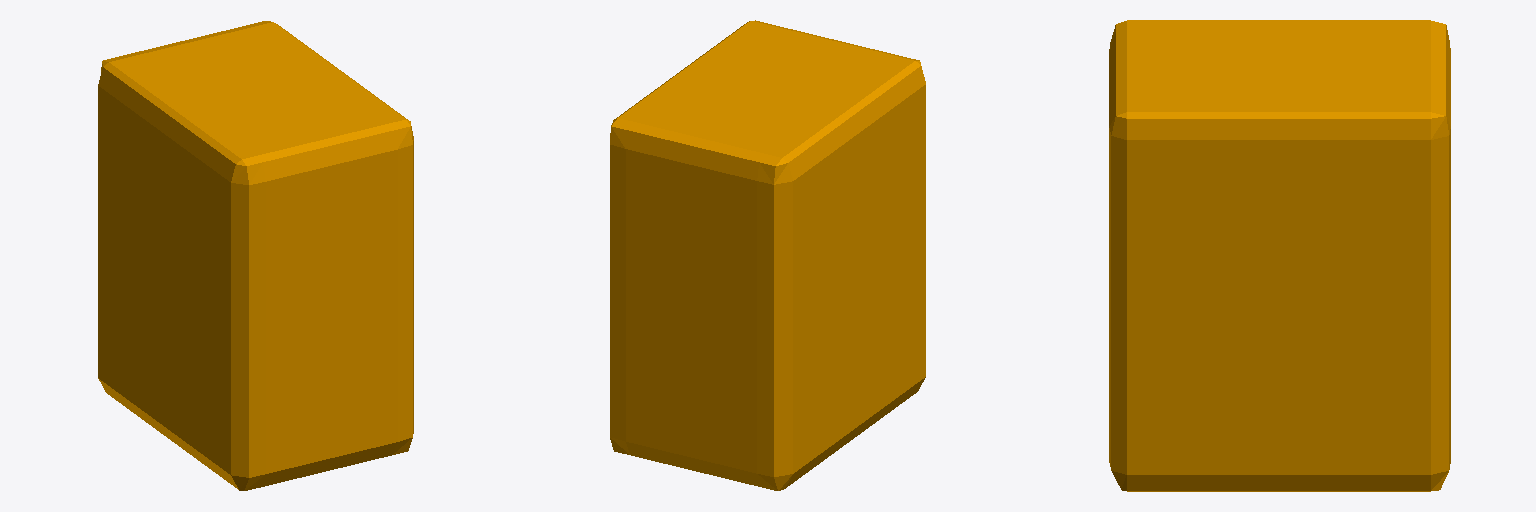
robot.urdf — cylinder_box_89:
<?xml version="1.0" encoding="utf-8"?>  <robot name="cylinder_box_89">   <link name="cylinder_box_89">     <visual>       <geometry>         <mesh filename="../meshes/box/box_89.stl" scale="1 1 1"/>       </geometry>     </visual>     <collision>       <geometry>         <mesh filename="../meshes/box/box_89.stl" scale="1 1 1"/>       </geometry>     </collision>     <inertial>        <origin         xyz="0 0 0"         rpy="0 0 0" />       <mass value="0.4154122831095582"/>       <origin rpy="0 0 0" xyz="0 0 0"/>       <inertia ixx="0.0005269593405703783" ixy="-7.108518755567424e-08" ixz="-1.2064462355674666e-09" iyy="0.00042193854133042077" iyz="-1.2465052972161966e-08" izz="0.0003154392751409589"/>     </inertial>   </link>  </robot>

--- What the picture shows (computed from the rendered views, not written in the file) ---
3 views of the same robot in one strip: view 1: azimuth 30°, elevation 25°; view 2: azimuth 150°, elevation 25°; view 3: azimuth 270°, elevation 25° (orthographic).
Robot: cylinder_box_89 — 1 links, 0 joints (none); root link cylinder_box_89; default pose: every joint at zero.
Links seen in each view (by area): view 1: cylinder_box_89; view 2: cylinder_box_89; view 3: cylinder_box_89.
Link boxes in pixels (left/top/right/bottom): cylinder_box_89: left=98, top=21, right=413, bottom=490; cylinder_box_89: left=610, top=20, right=925, bottom=490; cylinder_box_89: left=1109, top=20, right=1450, bottom=491.
Size in the robot's own frame: 0.0556 by 0.0786 by 0.0963 metres.
Meshes: 1 distinct files referenced, 1 mesh visuals loaded (1 binary STL).